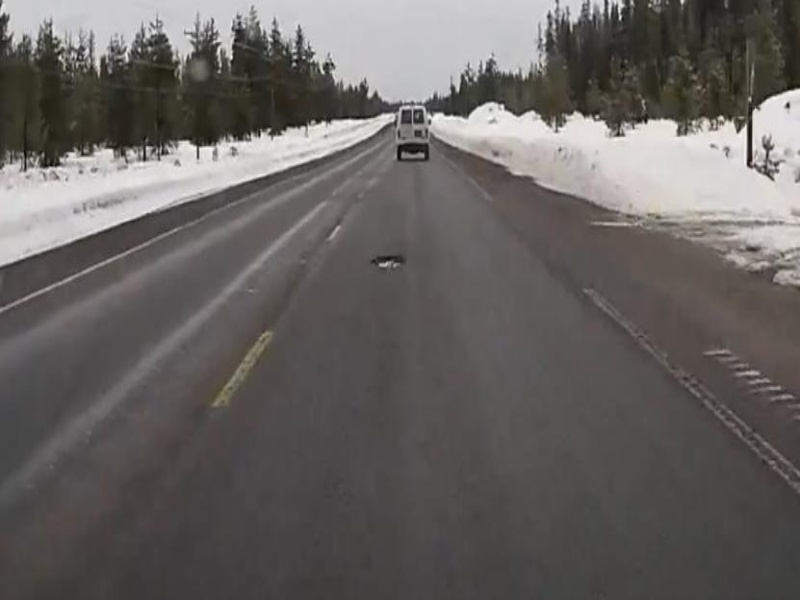pothole: (366, 250, 407, 274)
